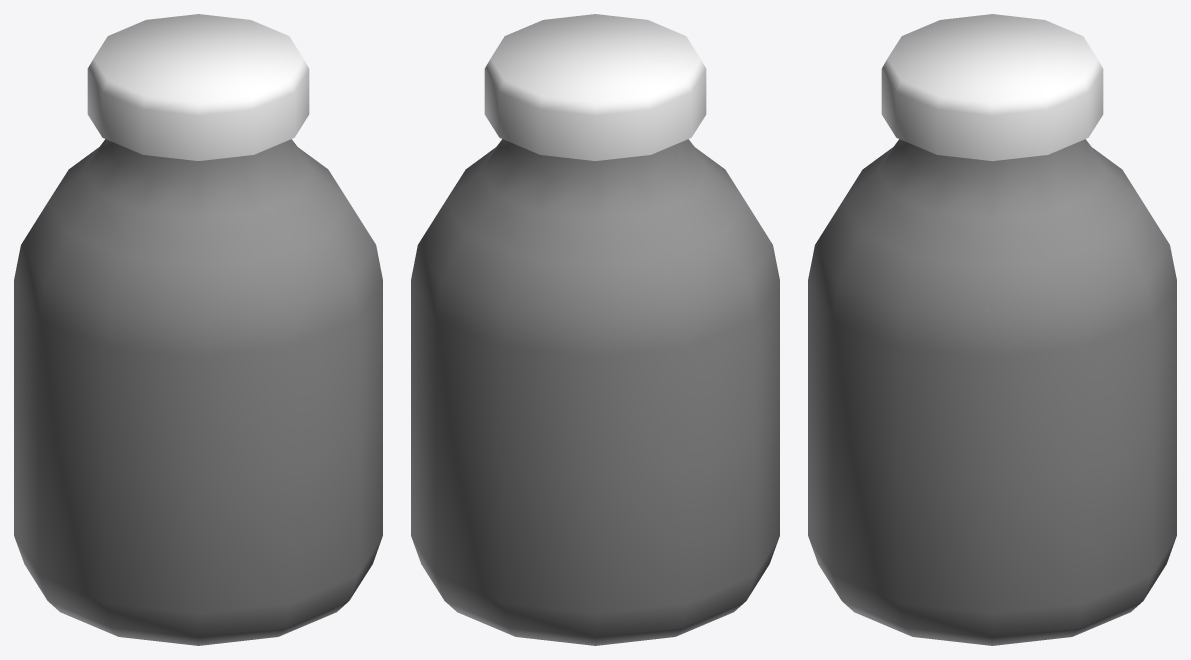
The model's file is milk.glb.
The picture shows the model from 3 angles, left to right: view 1: azimuth 30°, elevation 25°; view 2: azimuth 150°, elevation 25°; view 3: azimuth 270°, elevation 25°; orthographic projection.
Bounding box in the file's own units: 1 × 1.56 × 1.
1 material, 1 textured.
